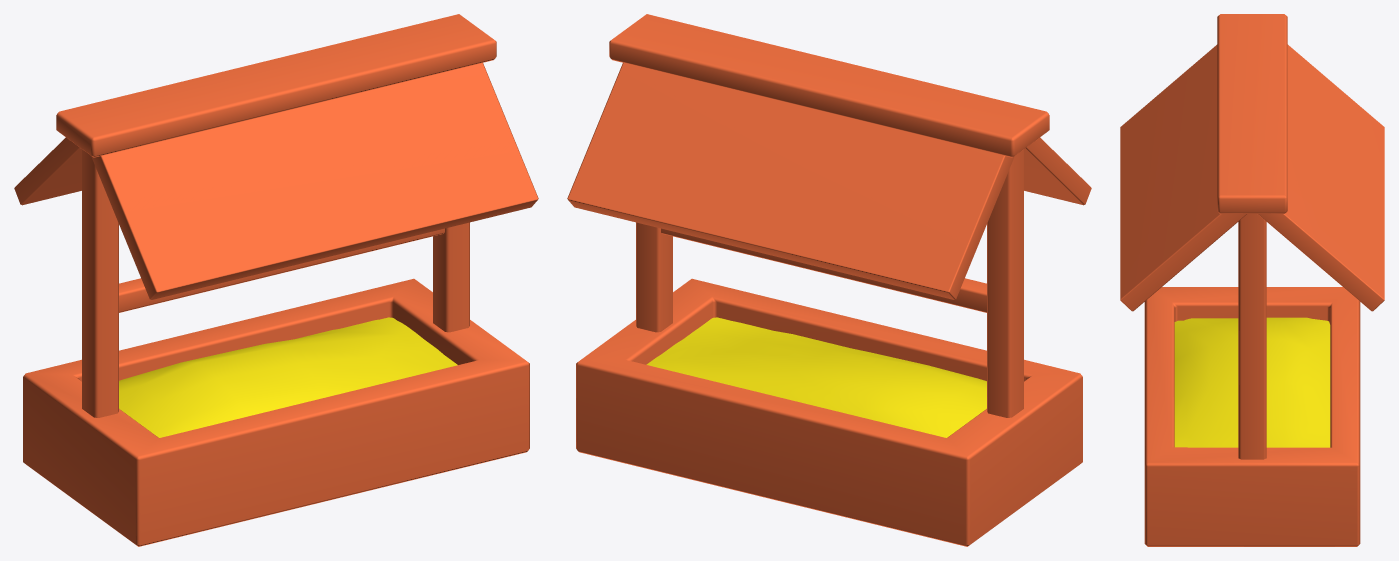
Rendered from Farm_14_Feeder_with_Food_1.glb.
3 views of the same model, side by side, from view 1: azimuth 30°, elevation 25°; view 2: azimuth 150°, elevation 25°; view 3: azimuth 270°, elevation 25° (orthographic). The views are drawn at different scales.
Parts seen in each view (by area): view 1: Farm_14_Feeder_with_Food_1; view 2: Farm_14_Feeder_with_Food_1; view 3: Farm_14_Feeder_with_Food_1.
Boxes of the visible parts, bbox=[...] form: Farm_14_Feeder_with_Food_1: bbox=[14, 14, 538, 546]; Farm_14_Feeder_with_Food_1: bbox=[567, 14, 1091, 546]; Farm_14_Feeder_with_Food_1: bbox=[1120, 14, 1384, 546].
Size of the model in its own units: 0.8116 by 0.7315 by 0.4943.
1 material, 1 textured.
